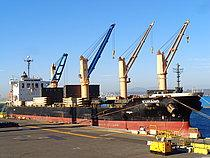Ship: (1, 15, 208, 139)
